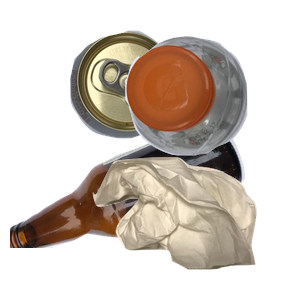glass: (10, 120, 247, 300)
metal: (68, 28, 237, 159)
plastic: (123, 33, 300, 181)
trash: (90, 155, 300, 300)
